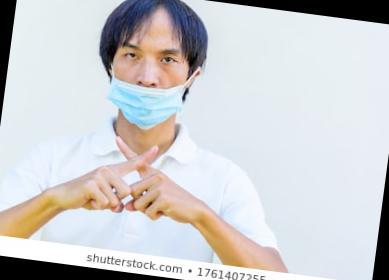mask_weared_incorrect: (105, 35, 193, 136)
